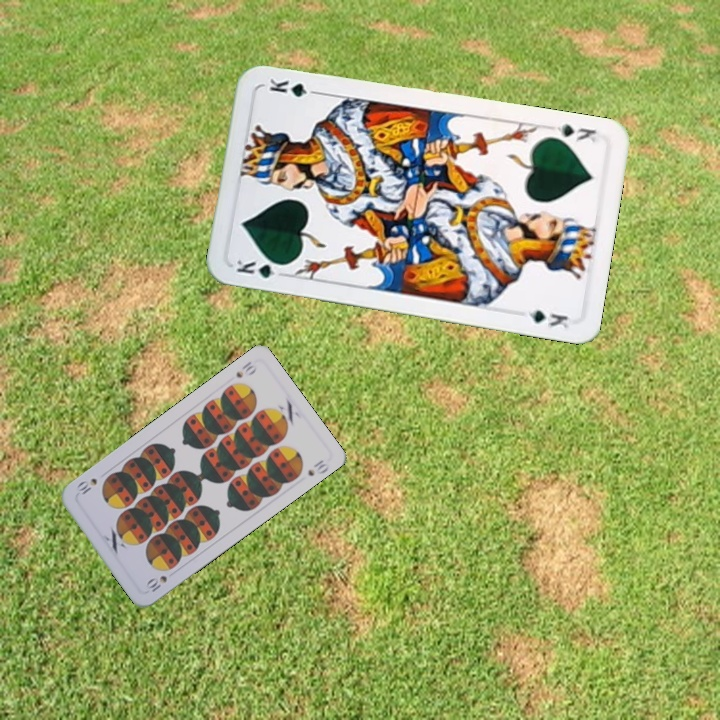GK: (232, 256, 290, 281), (553, 120, 599, 145)
S10: (142, 571, 170, 595), (232, 357, 260, 381)
